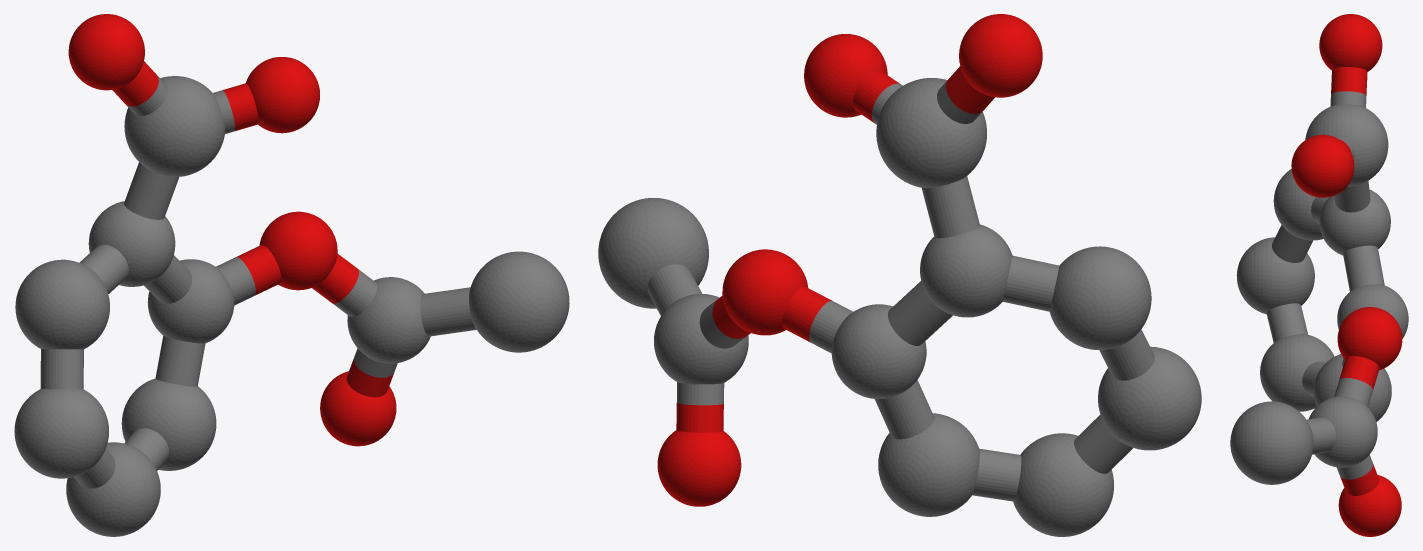
The model's file is aspirina.glb.
The picture shows the model from 3 angles, left to right: view 1: azimuth 30°, elevation 25°; view 2: azimuth 150°, elevation 25°; view 3: azimuth 270°, elevation 25°; orthographic projection. The views are drawn at different scales.
Parts seen in each view (by area): view 1: atoms, bonds; view 2: atoms, bonds; view 3: atoms, bonds.
Boxes of the visible parts, x1,y1,x2,y2 form: atoms: [14, 14, 569, 536]; bonds: [40, 61, 476, 488]; atoms: [598, 14, 1201, 536]; bonds: [647, 66, 1154, 501]; atoms: [1230, 14, 1408, 536]; bonds: [1266, 67, 1384, 495].
Bounding box in the file's own units: 6.95 × 6.13 × 2.41.
